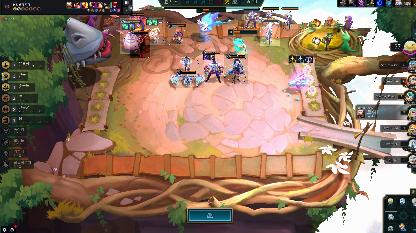1_joy: (145, 17, 165, 45)
1_lillia: (130, 30, 150, 58)
1_soraka: (261, 7, 279, 19)
1_sylas: (244, 10, 260, 28)
2_heimerdinger: (167, 23, 187, 45)
2_lux: (260, 18, 280, 46)
2_nomsy: (120, 18, 140, 54)
2_skarner: (170, 58, 204, 88)
2_soraka: (282, 7, 298, 29)
2_sylas: (202, 50, 224, 84)
2_vladimir: (224, 54, 248, 84)
